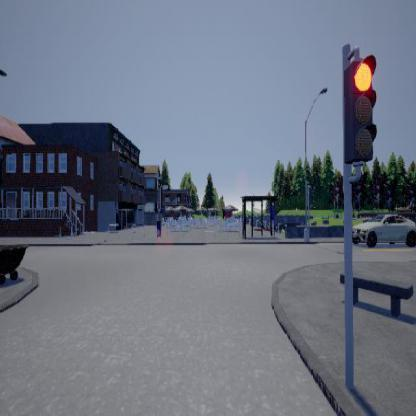traffic_light_red: (344, 45, 376, 183)
vehicle: (352, 214, 415, 247)
